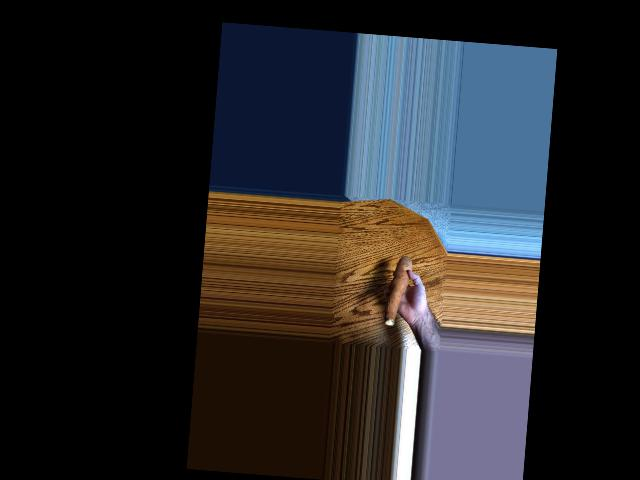sweet_potato: (383, 250, 410, 324)
